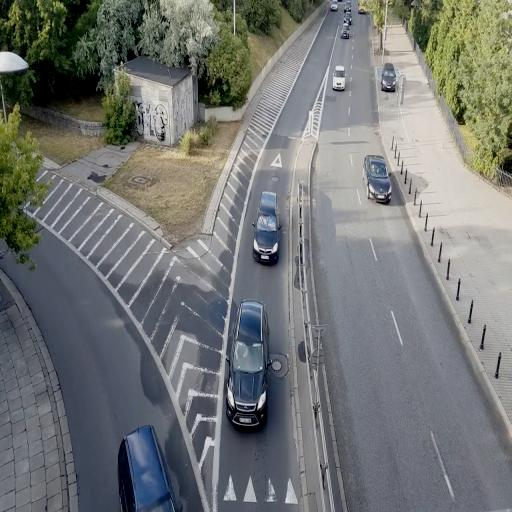vehicle: (117, 424, 180, 512), (253, 191, 279, 266), (364, 154, 392, 204), (253, 212, 279, 264), (380, 63, 398, 91), (332, 64, 346, 92), (339, 24, 350, 40)
